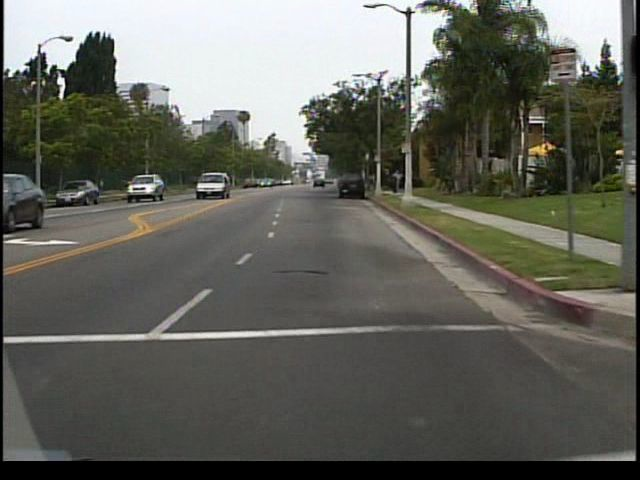person: (393, 169, 406, 197), (389, 173, 397, 193)
